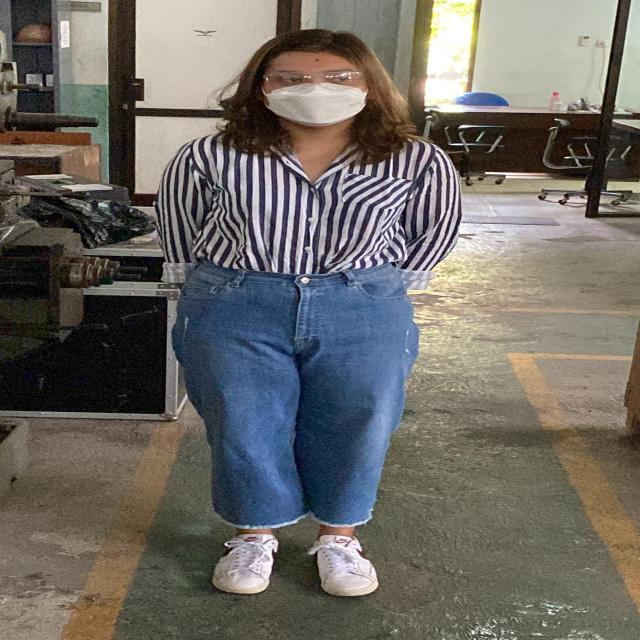glasses: (258, 68, 368, 92)
